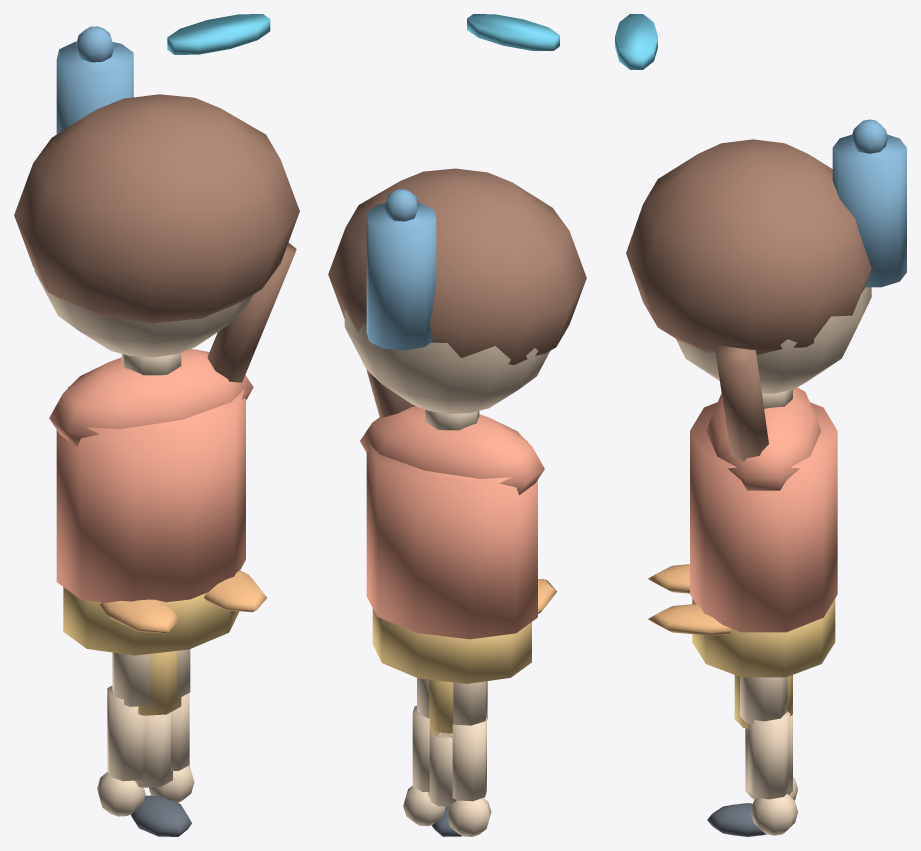
The model's file is adventurer_girl-B-FDe0mT.glb.
The picture shows the model from 3 angles, left to right: view 1: azimuth 30°, elevation 25°; view 2: azimuth 150°, elevation 25°; view 3: azimuth 270°, elevation 25°; orthographic projection. The views are drawn at different scales.
Parts seen in each view (by area): view 1: hair, torso, shoulders, shorts, scuba_tank, head, braid, arm_R_l, scuba_mask, shin_L, flipper_R, arm_R_u (+8 smaller); view 2: hair, torso, scuba_tank, head, shoulders, shorts, arm_R_l, scuba_mask, shin_L, arm_R_u, arm_L_l, hand_R (+6 smaller); view 3: hair, torso, scuba_tank, shorts, shoulders, head, braid, arm_L_l, arm_L_u, scuba_mask, flipper_L, hand_L (+4 smaller).
Part boxes in pixels (left/top/right/bottom): hair: left=14, top=94, right=299, bottom=323; torso: left=56, top=386, right=245, bottom=602; shoulders: left=49, top=349, right=253, bottom=446; shorts: left=63, top=587, right=239, bottom=655; scuba_tank: left=56, top=26, right=133, bottom=134; head: left=34, top=266, right=252, bottom=357; braid: left=207, top=242, right=296, bottom=382; arm_R_l: left=107, top=686, right=145, bottom=781; scuba_mask: left=167, top=14, right=270, bottom=54; shin_L: left=135, top=712, right=172, bottom=787; flipper_R: left=99, top=599, right=179, bottom=633; arm_R_u: left=112, top=652, right=150, bottom=706; hair: left=328, top=168, right=586, bottom=364; torso: left=366, top=440, right=537, bottom=639; scuba_tank: left=366, top=189, right=436, bottom=350; head: left=344, top=309, right=549, bottom=413; shoulders: left=360, top=406, right=544, bottom=494; shorts: left=372, top=608, right=531, bottom=683; arm_R_l: left=452, top=717, right=486, bottom=801; scuba_mask: left=467, top=14, right=559, bottom=50; shin_L: left=427, top=729, right=456, bottom=806; arm_R_u: left=453, top=681, right=487, bottom=725; arm_L_l: left=412, top=705, right=429, bottom=792; hand_R: left=447, top=798, right=491, bottom=836; hair: left=626, top=139, right=871, bottom=355; torso: left=690, top=402, right=837, bottom=632; scuba_tank: left=832, top=119, right=906, bottom=287; shorts: left=692, top=598, right=835, bottom=677; shoulders: left=706, top=387, right=820, bottom=490; head: left=676, top=287, right=871, bottom=393; braid: left=715, top=345, right=768, bottom=461; arm_L_l: left=748, top=711, right=790, bottom=799; arm_L_u: left=740, top=677, right=787, bottom=724; scuba_mask: left=615, top=14, right=657, bottom=69; flipper_L: left=648, top=604, right=731, bottom=635; hand_L: left=750, top=793, right=797, bottom=835.
Bounding box in the file's own units: 0.4718 × 1.5 × 0.4975.
